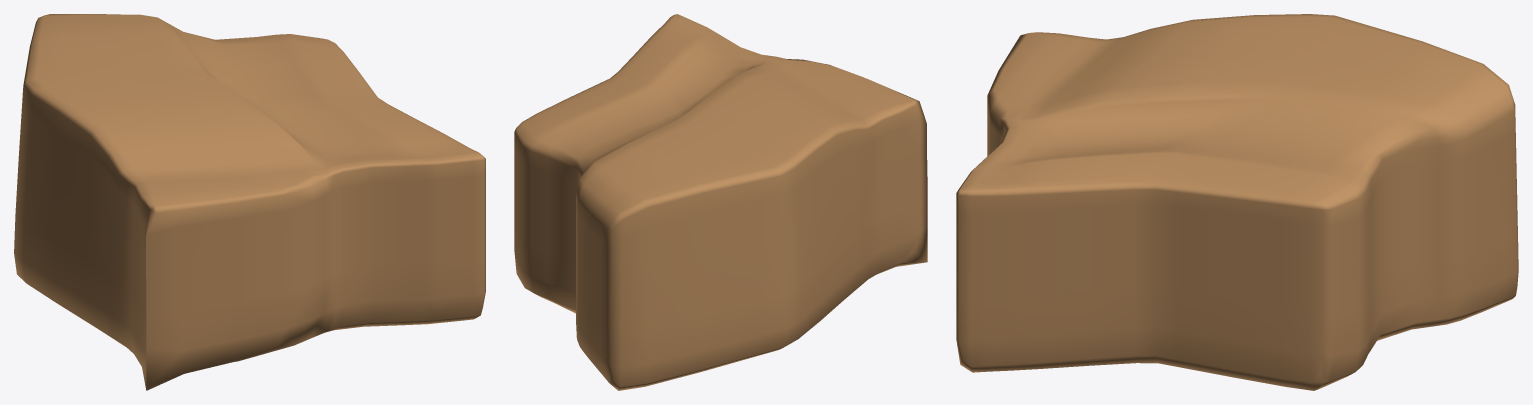
The model's file is terrain_W4A3a.fbx.
The picture shows the model from 3 angles, left to right: view 1: azimuth 30°, elevation 25°; view 2: azimuth 150°, elevation 25°; view 3: azimuth 270°, elevation 25°; orthographic projection. The views are drawn at different scales.
Parts seen in each view (by area): view 1: W4A3_a; view 2: W4A3_a; view 3: W4A3_a.
Part boxes in pixels (x1,y1,x2,y2): W4A3_a: (14, 14, 485, 390); W4A3_a: (514, 14, 927, 390); W4A3_a: (956, 14, 1518, 390).
Bounding box in the file's own units: 17363 × 10935 × 23918.
